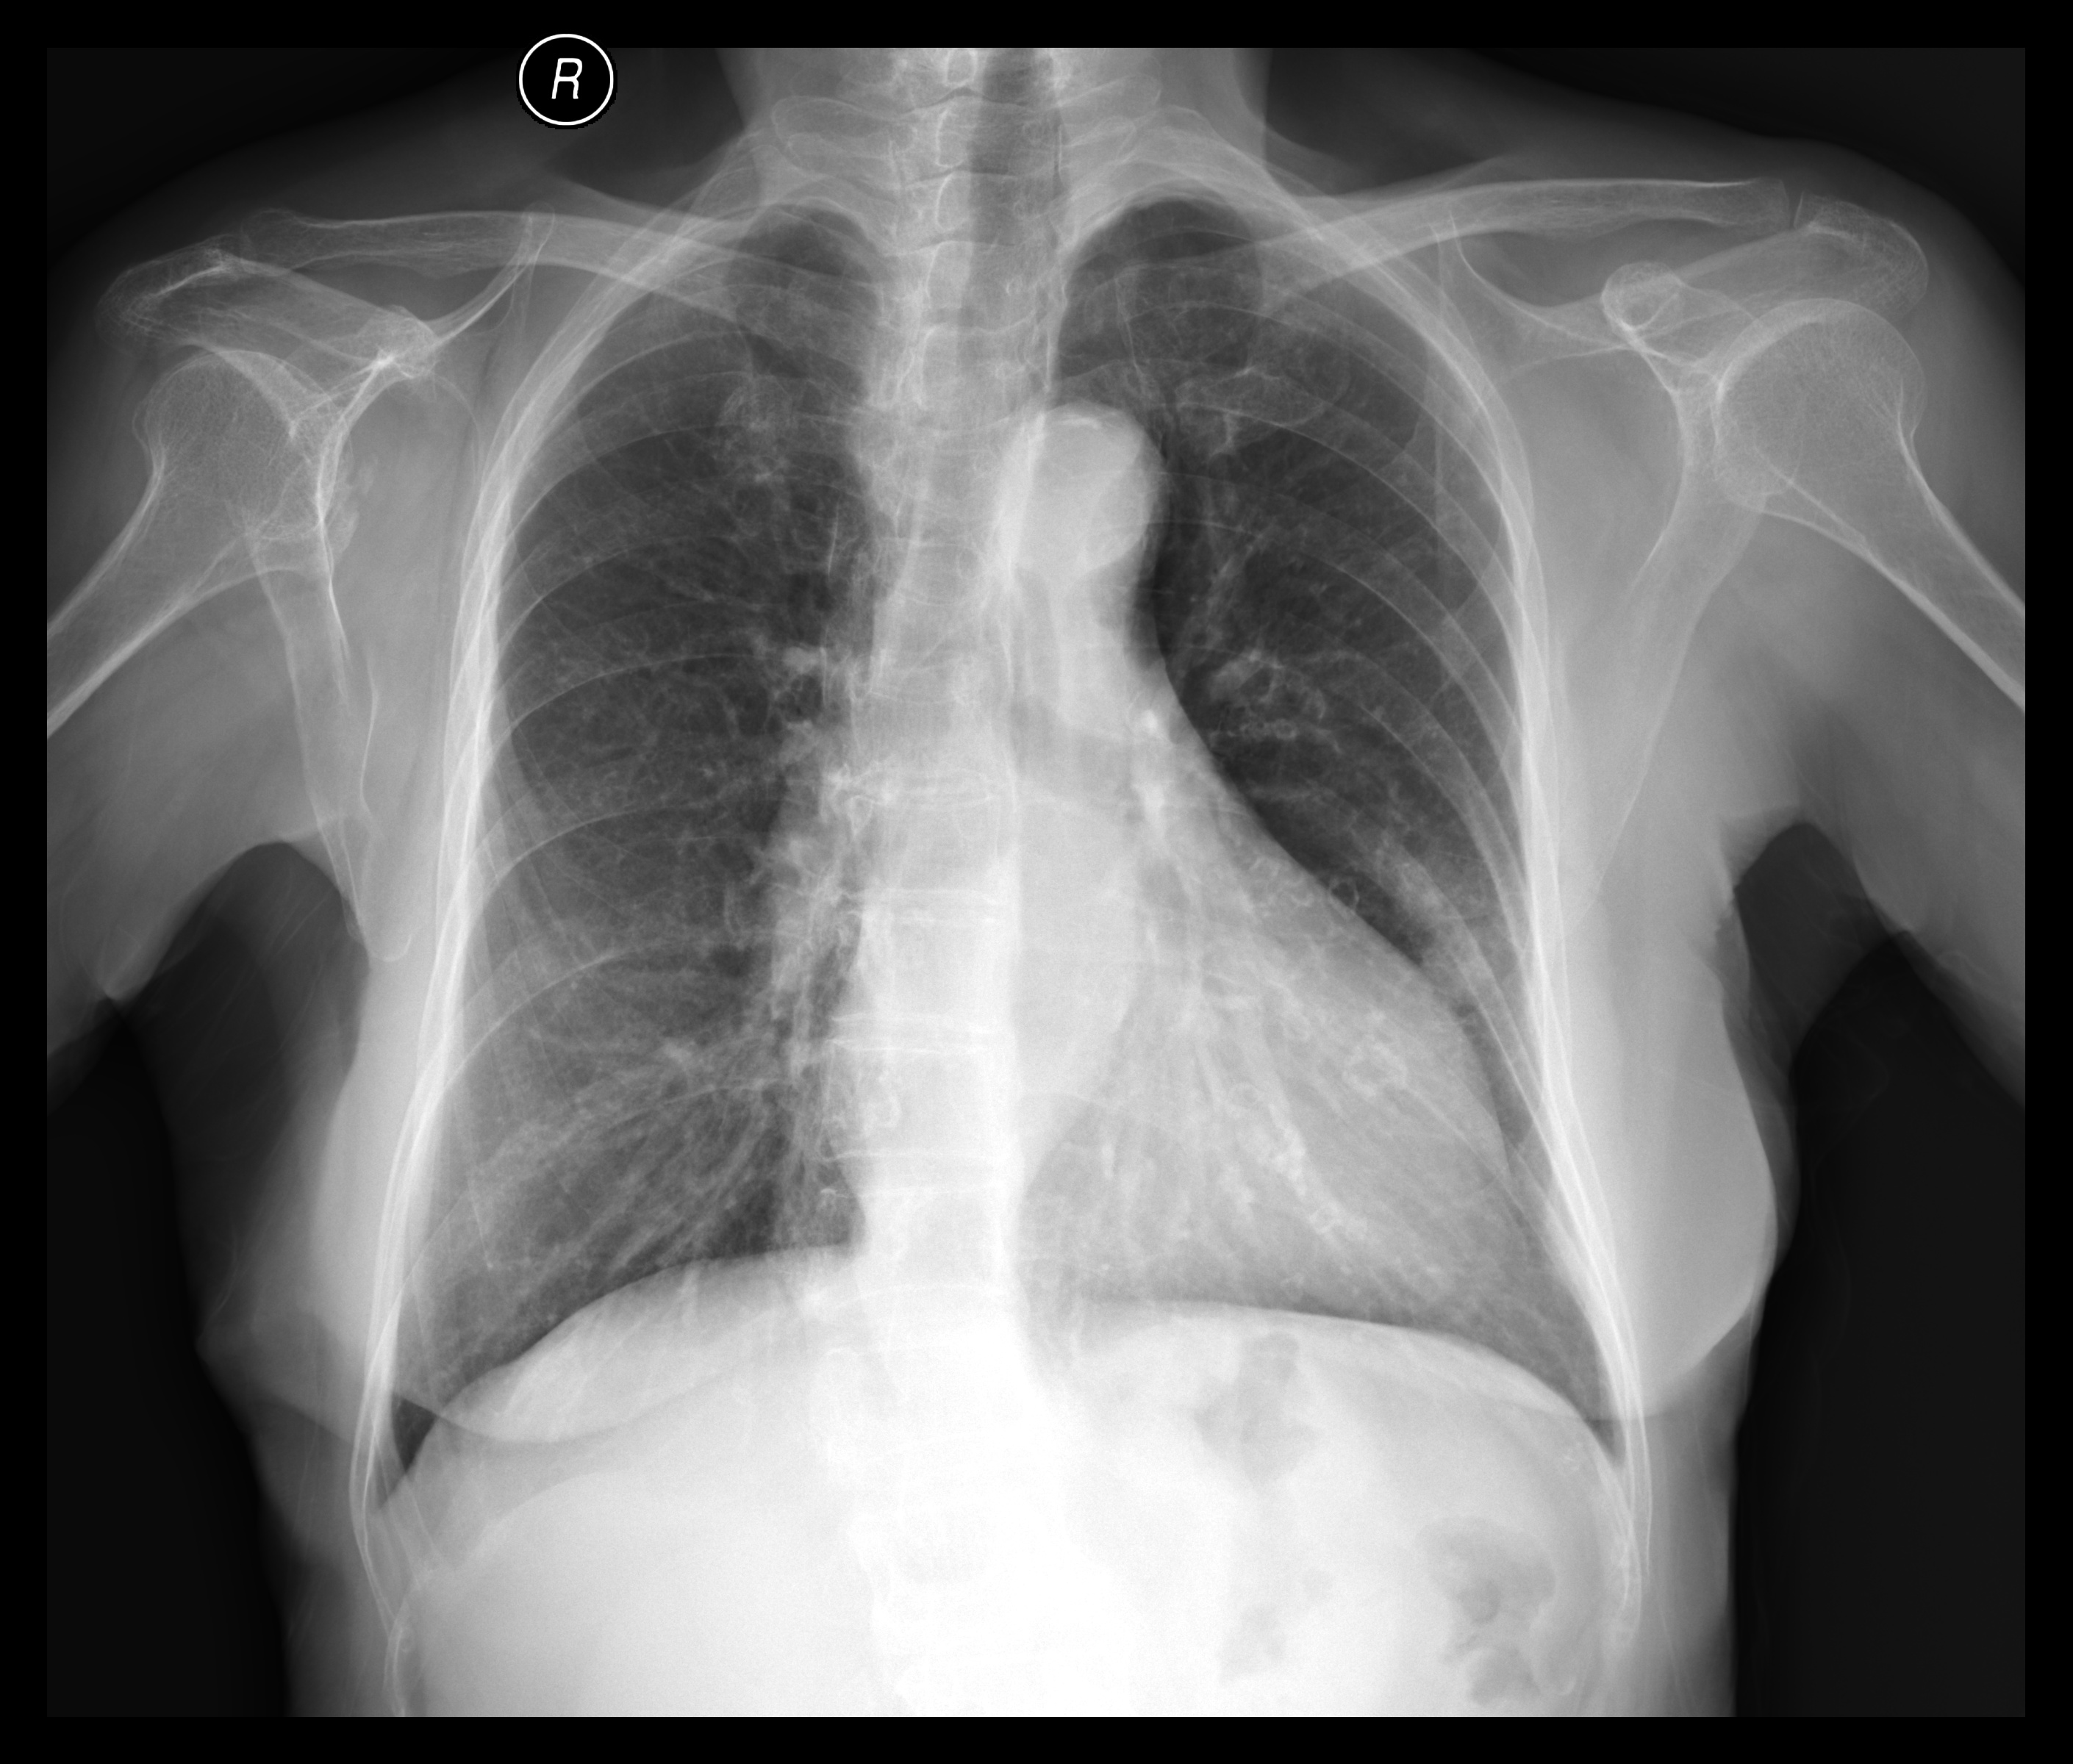nodule: (1394, 884, 1516, 1043)
